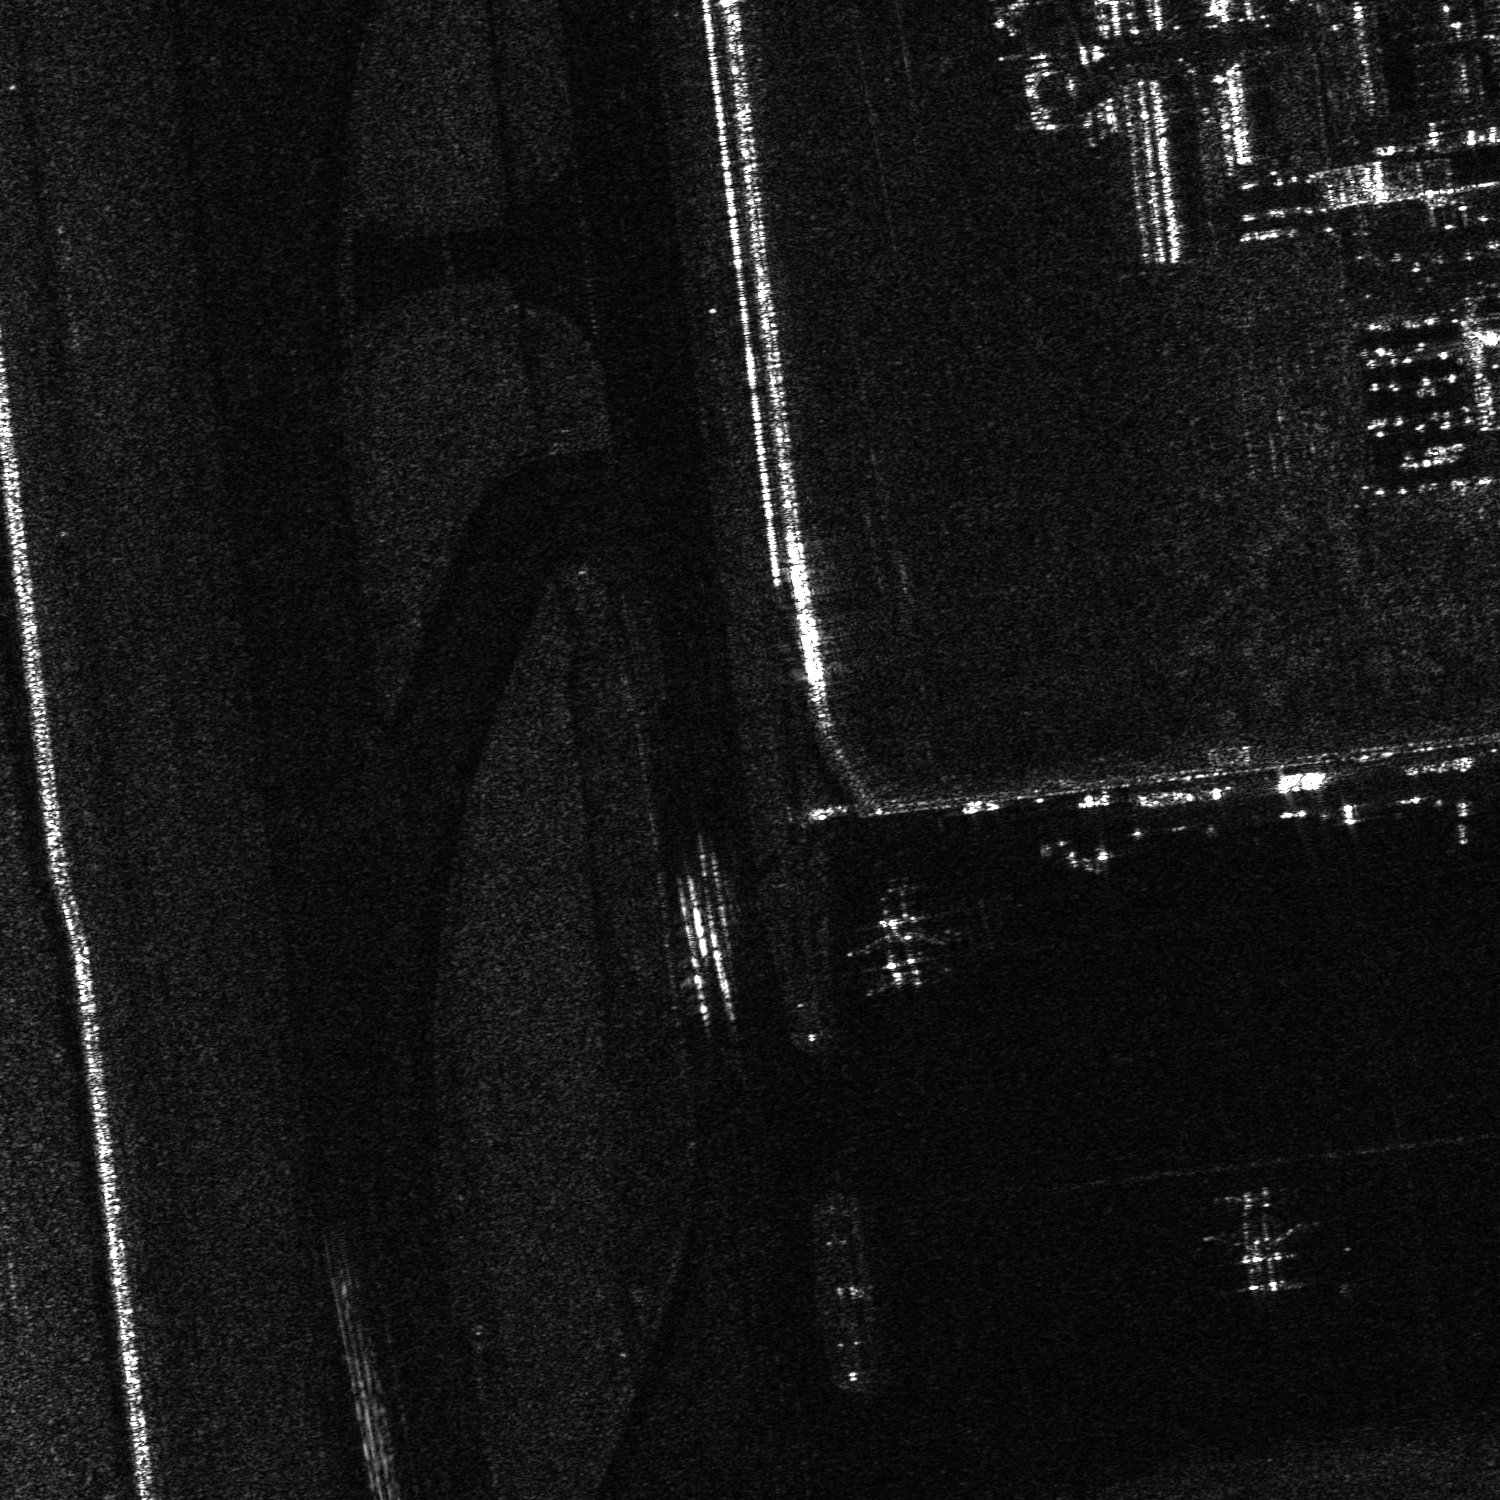A220: (845, 894, 952, 1000)
A330: (1209, 1180, 1316, 1291)
